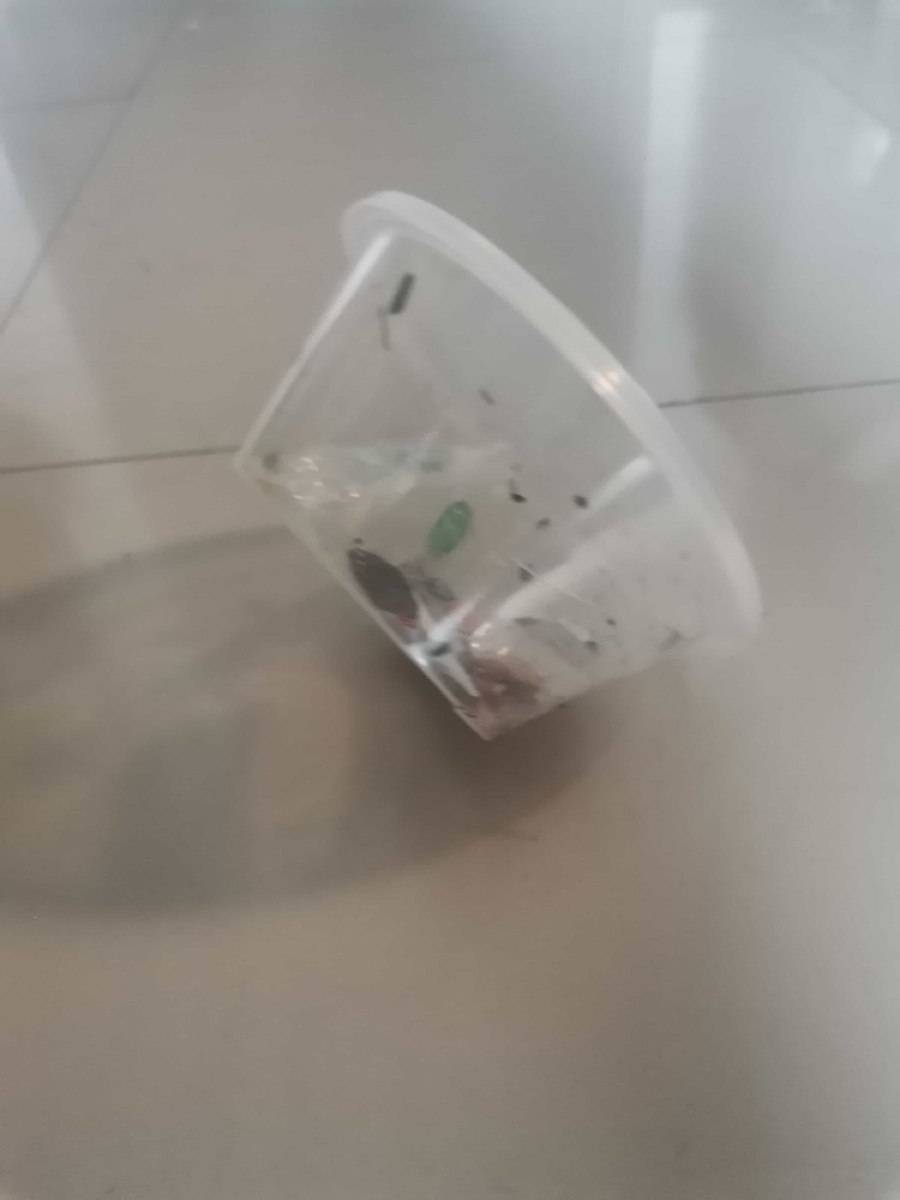fastfood box: (224, 179, 780, 753)
